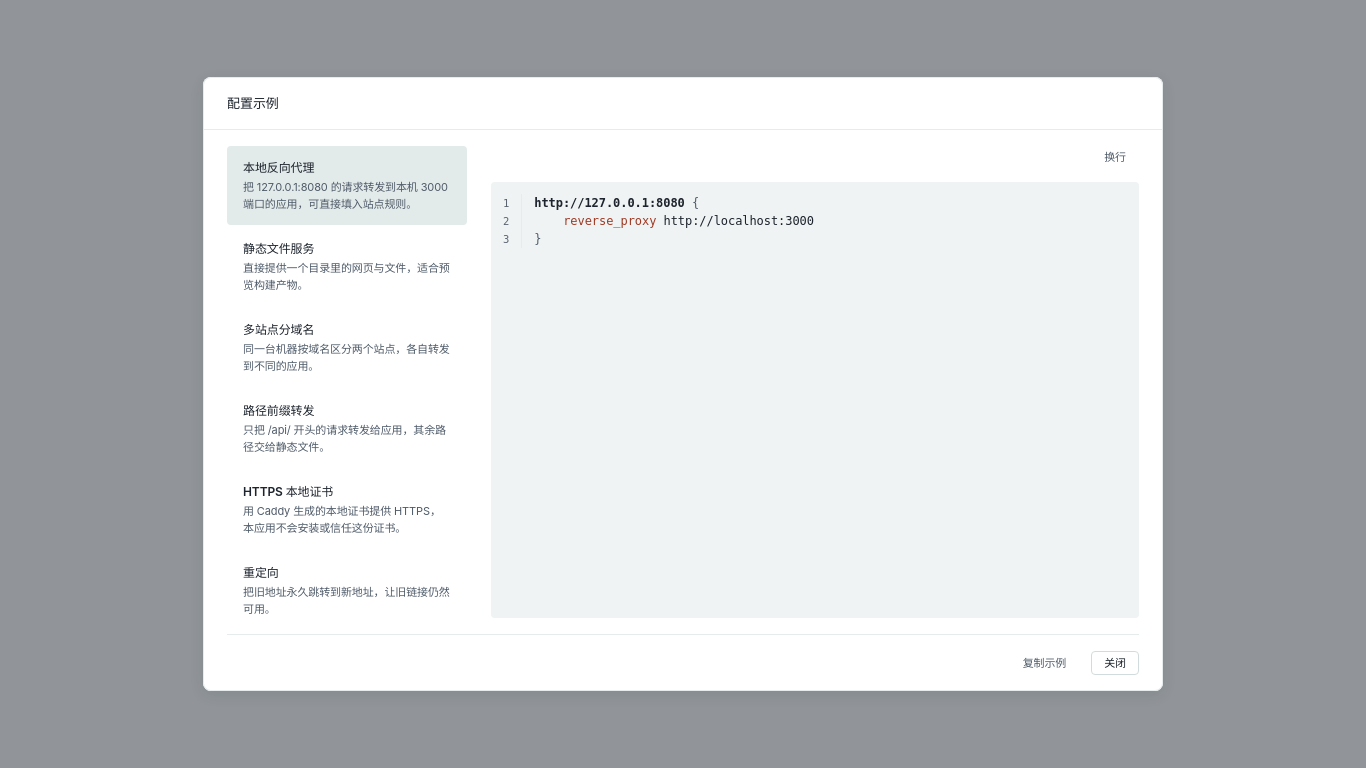
Test: CaddyExamplesDialog › shows the reference notice only for reference-only examples
Expected: the text "仅作参考，需在原始编辑中使用。" is not shown
Click the tab "静态文件服务 直接提供一个目录里的网页与文件，适合预览构建产物。": (347, 266) [227, 227, 467, 306]
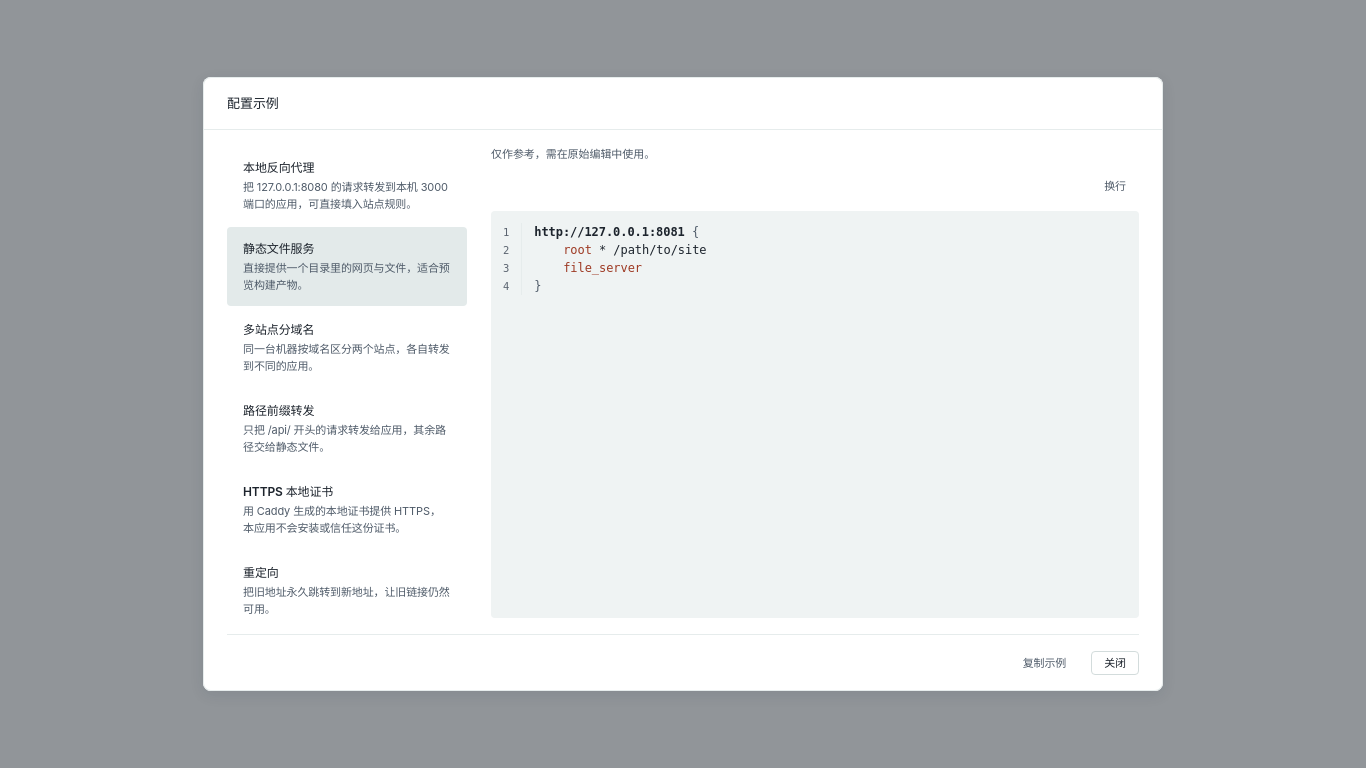
Now the text "仅作参考，需在原始编辑中使用。" is shown, box [491, 147, 655, 161]
